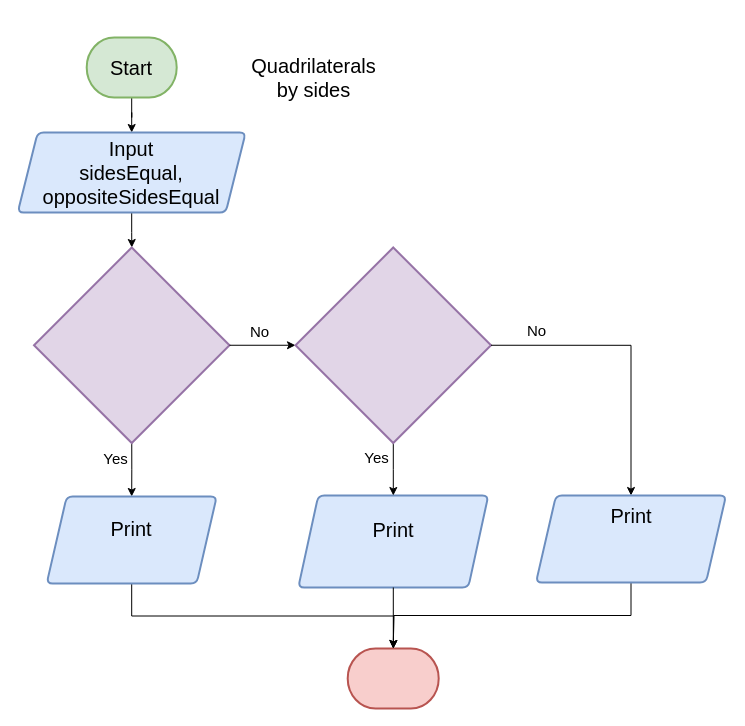
Some shapes in this 745 by 726 pixel diagram are drawn without their labels. Here are the shapes that lost their labels. From the top down, the centre of each, then its label:
At (x=131, y=345): "sidesEqual = True ?".
At (x=392, y=678): "End".
